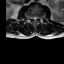CCS_normal: (34, 14, 35, 22)
LFS_stenosis: (37, 14, 39, 20)
LLS_stenosis: (35, 14, 37, 20)
RFS_stenosis: (30, 14, 32, 20)
RLS_stenosis: (32, 14, 34, 21)
